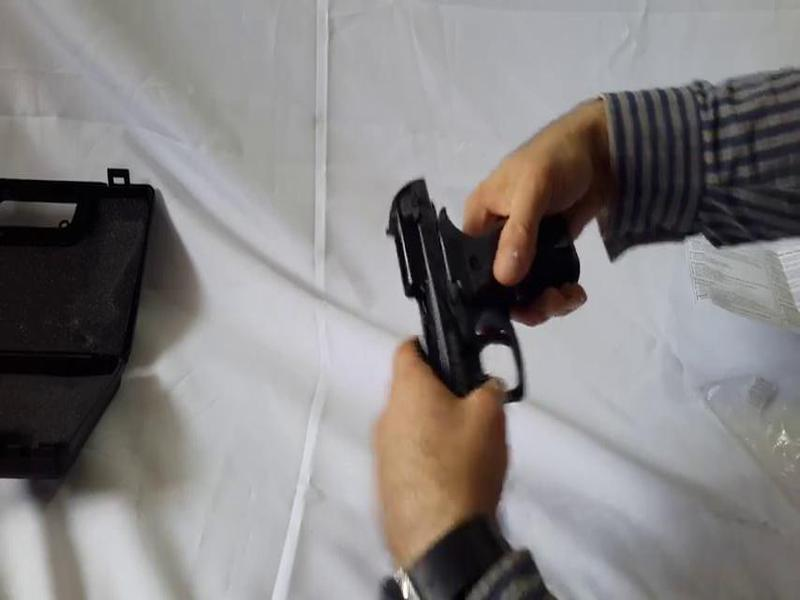Pistola: (352, 159, 602, 514)
